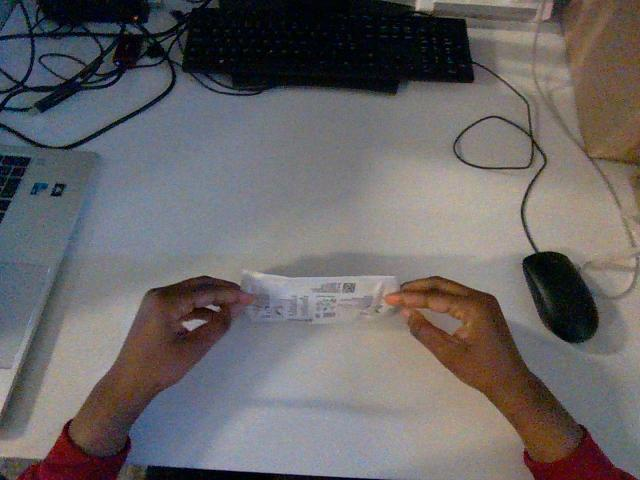syringe: (241, 271, 398, 323)
